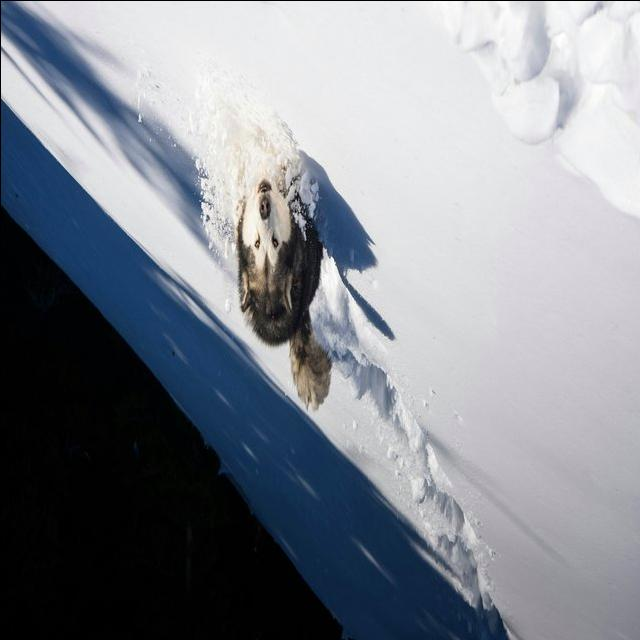husky: (230, 116, 332, 413)
